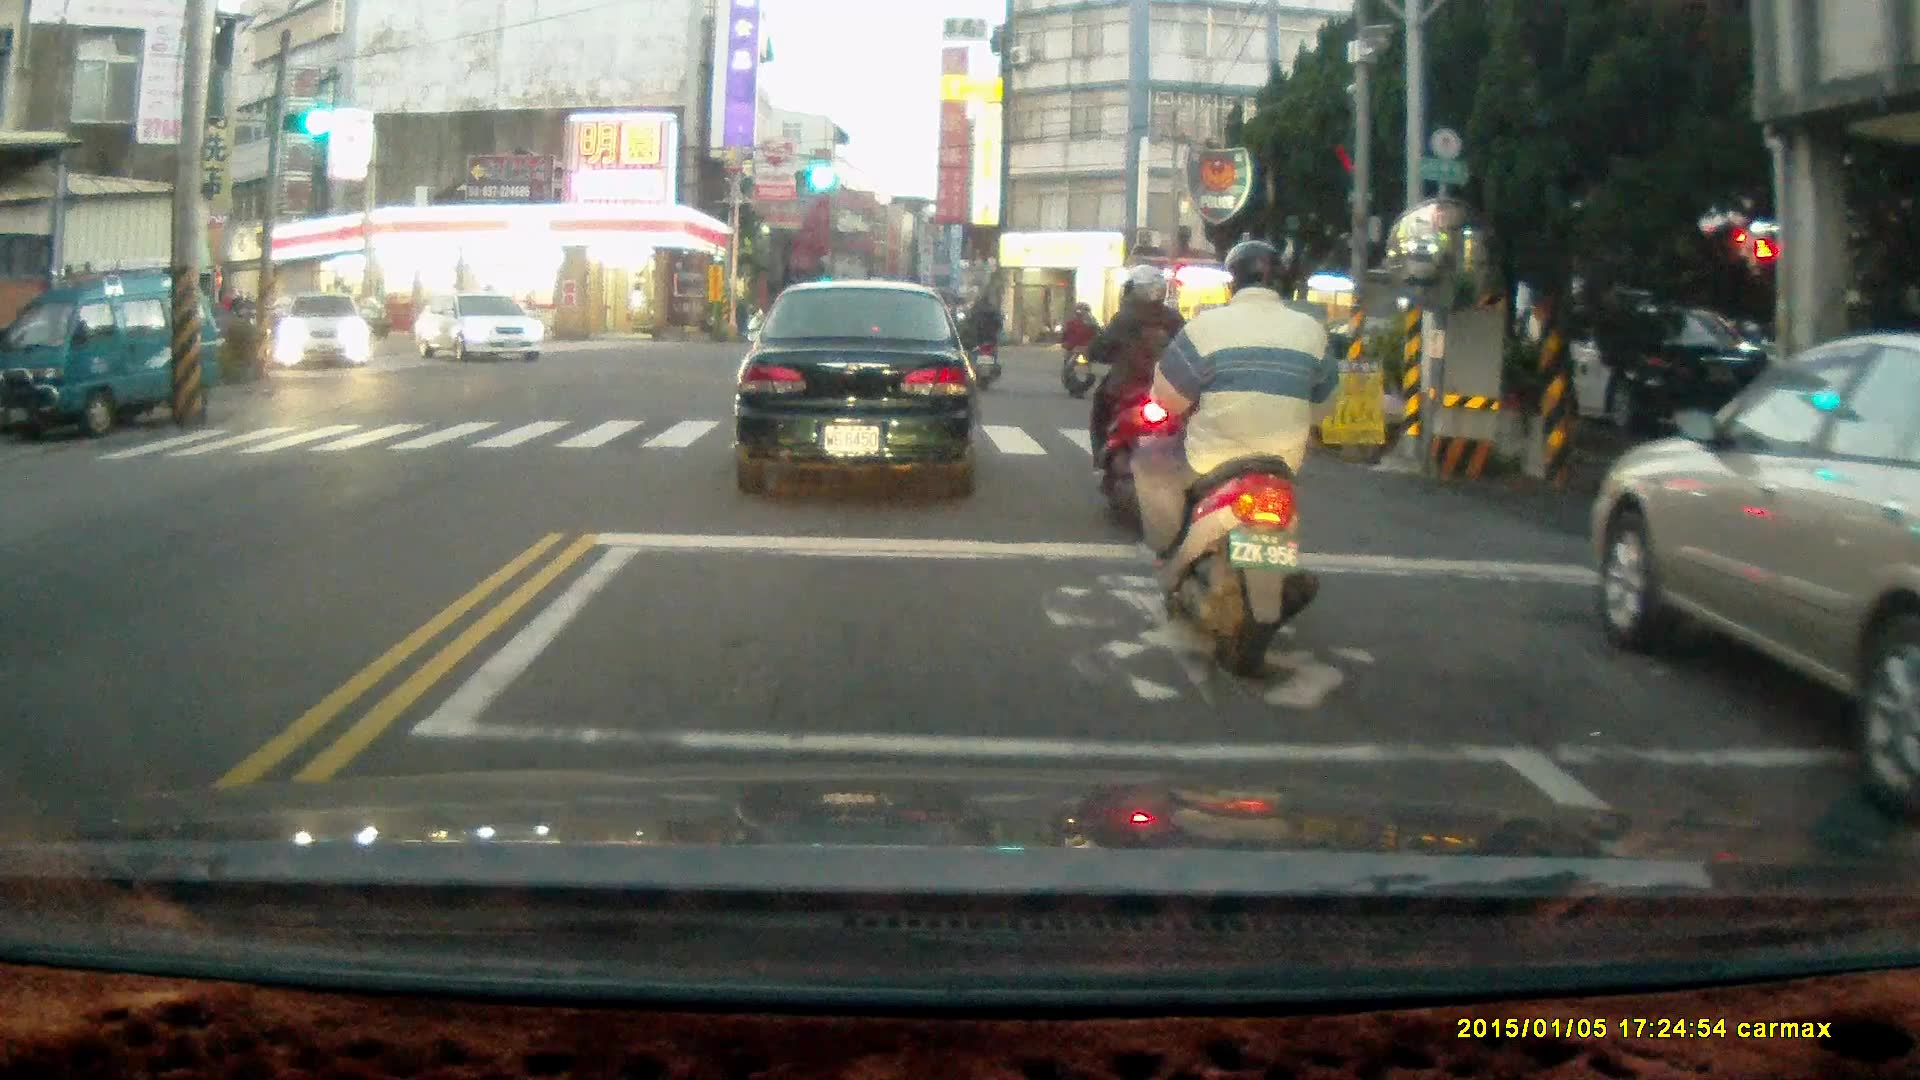rider: (1133, 238, 1342, 678), (1066, 256, 1202, 531), (954, 288, 1012, 390), (1053, 298, 1097, 398)
vehicle: (1590, 324, 1920, 814), (729, 277, 985, 501), (1460, 295, 1791, 443), (2, 272, 227, 441), (415, 292, 547, 365), (269, 295, 377, 372)
